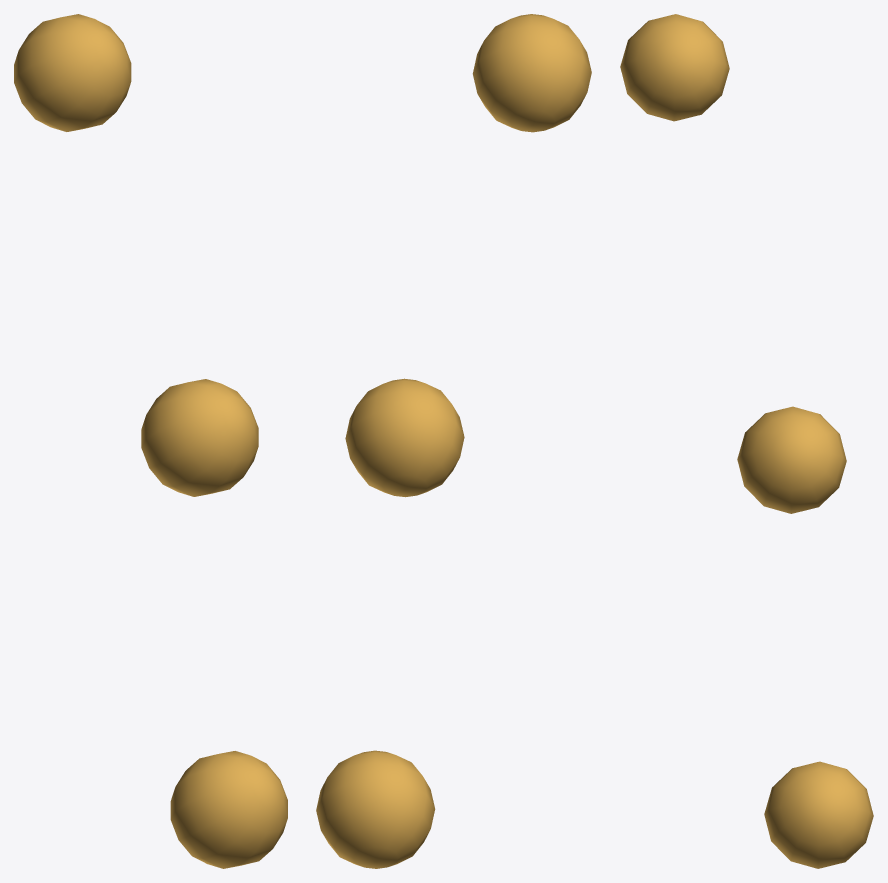
3 renders of one model, left to right at view 1: azimuth 30°, elevation 25°; view 2: azimuth 150°, elevation 25°; view 3: azimuth 330°, elevation 25°, orthographic. The views are drawn at different scales.
Parts seen in each view (by area): view 1: 右侧下颌下淋巴结; view 2: 右侧下颌下淋巴结; view 3: 右侧下颌下淋巴结.
Part boxes in pixels (x1,y1,x2,y2): 右侧下颌下淋巴结: (14,14,287,868); 右侧下颌下淋巴结: (316,14,591,868); 右侧下颌下淋巴结: (620,14,873,868).
Size of the model in its own units: 0.00957 by 0.0313 by 0.00377.
